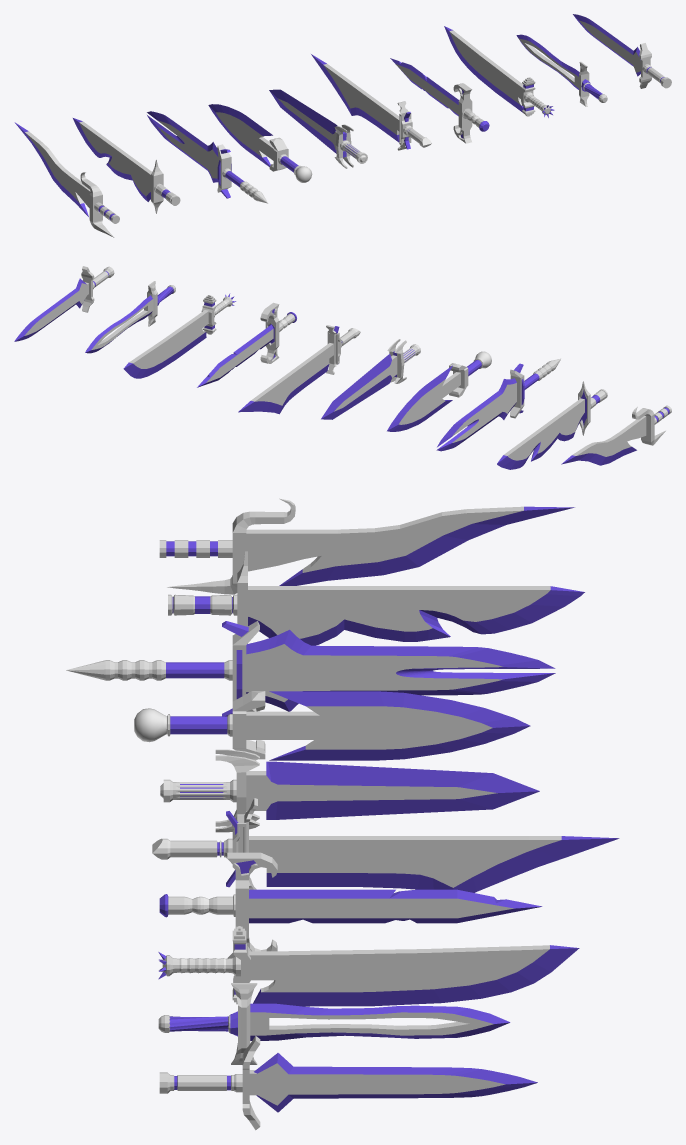
The model's file is Swords.fbx.
3 views of the same model, one above another, from view 1: azimuth 30°, elevation 25°; view 2: azimuth 150°, elevation 25°; view 3: azimuth 270°, elevation 25° (orthographic). The views are drawn at different scales.
Visible parts, largest first — view 1: Curve.012, Curve.002, Curve.014, Curve.008, Curve.009, Curve.010, Curve.013, Curve.005, Curve.011, Curve.007, Plane, Cube.001 (+10 smaller); view 2: Curve.012, Curve.002, Curve.014, Curve.009, Curve.008, Curve.013, Curve.010, Curve.005, Curve.011, Curve.007, Plane, Cube.001 (+10 smaller); view 3: Curve.002, Curve.012, Curve.014, Curve.008, Curve.009, Curve.013, Curve.010, Curve.005, Curve.011, Curve.007, Cylinder.046, Cylinder.044 (+15 smaller).
Part boxes in pixels (x1,y1,x2,y2): Curve.012: (311, 54, 399, 142); Curve.002: (444, 26, 523, 112); Curve.014: (73, 118, 151, 201); Curve.008: (208, 104, 274, 166); Curve.009: (147, 111, 218, 182); Curve.010: (14, 122, 90, 216); Curve.013: (269, 89, 337, 153); Curve.005: (573, 14, 640, 76); Curve.011: (390, 58, 458, 116); Curve.007: (516, 34, 579, 89); Plane: (453, 83, 472, 143); Cube.001: (80, 172, 114, 237); Curve.012: (238, 343, 333, 414); Curve.002: (123, 310, 208, 378); Curve.014: (497, 398, 584, 469); Curve.009: (436, 378, 516, 451); Curve.008: (387, 365, 460, 431); Curve.013: (321, 354, 397, 419); Curve.010: (561, 416, 646, 465); Curve.005: (14, 278, 88, 341); Curve.011: (197, 324, 273, 387); Curve.007: (85, 295, 153, 353); Plane: (260, 302, 279, 363); Cube.001: (632, 406, 665, 445); Curve.002: (249, 945, 579, 1006); Curve.012: (249, 836, 619, 892); Curve.014: (248, 586, 584, 645); Curve.008: (246, 691, 530, 760); Curve.009: (246, 629, 555, 711); Curve.013: (246, 761, 539, 819); Curve.010: (246, 506, 574, 585); Curve.005: (249, 1053, 537, 1112); Curve.011: (249, 889, 542, 923); Curve.007: (250, 1003, 510, 1040); Cylinder.046: (66, 660, 232, 680); Cylinder.044: (134, 708, 232, 742).
Bounding box in the file's own units: 2733 × 256 × 1169.
